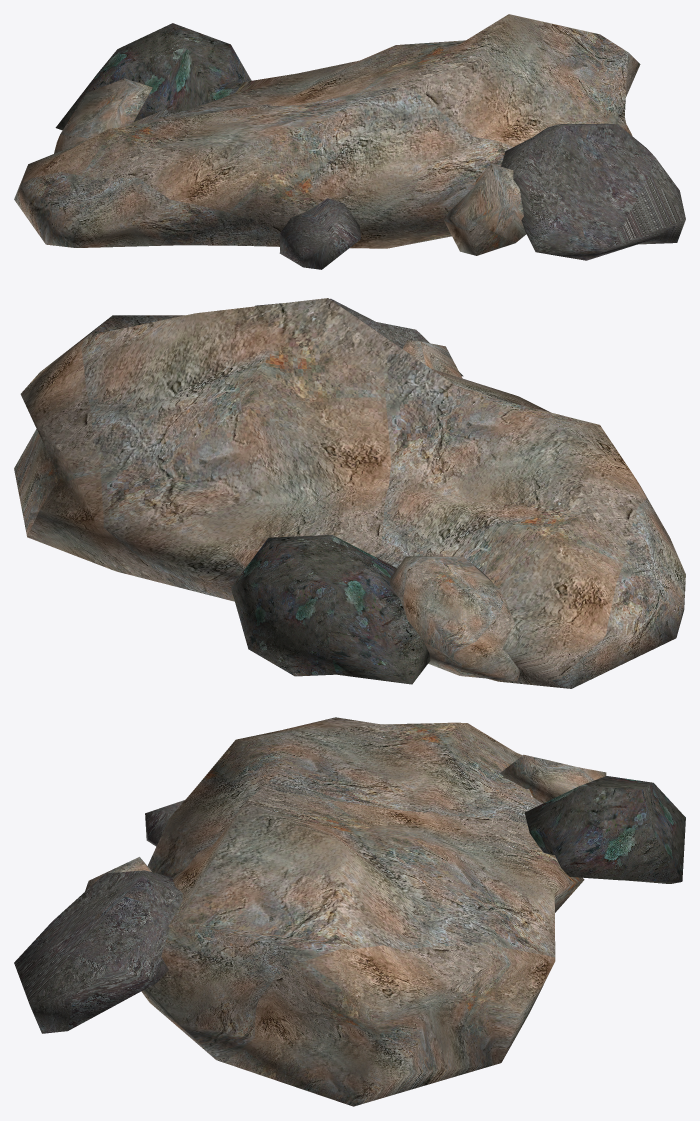
The model's file is rock_forestrockcluster_l1.fbx.
3 views of the same model, one above another, from view 1: azimuth 30°, elevation 25°; view 2: azimuth 150°, elevation 25°; view 3: azimuth 270°, elevation 25° (orthographic). The views are drawn at different scales.
Parts seen in each view (by area): view 1: mesh_node; view 2: mesh_node; view 3: mesh_node.
Part boxes in pixels (x1,y1,x2,y2): mesh_node: [14, 14, 685, 269]; mesh_node: [14, 298, 685, 688]; mesh_node: [14, 717, 685, 1106].
Bounding box in the file's own units: 4.55 × 1.29 × 4.05.
